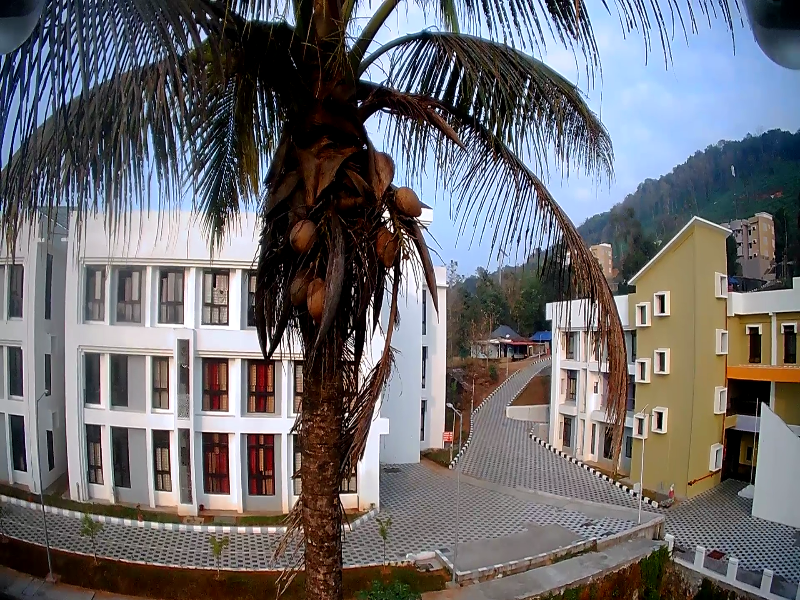coconut: (372, 220, 401, 266), (301, 272, 330, 312), (284, 212, 305, 247), (402, 183, 421, 220), (283, 268, 297, 301)
